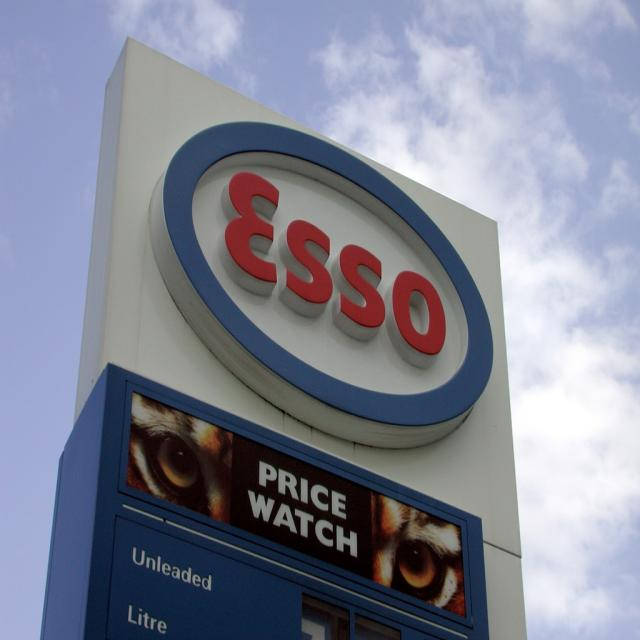esso: (157, 107, 499, 447)
